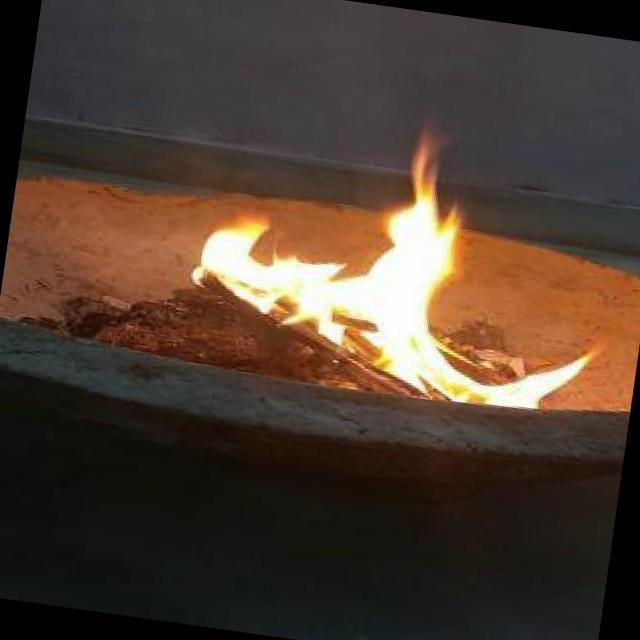Fire: (172, 83, 636, 426)
